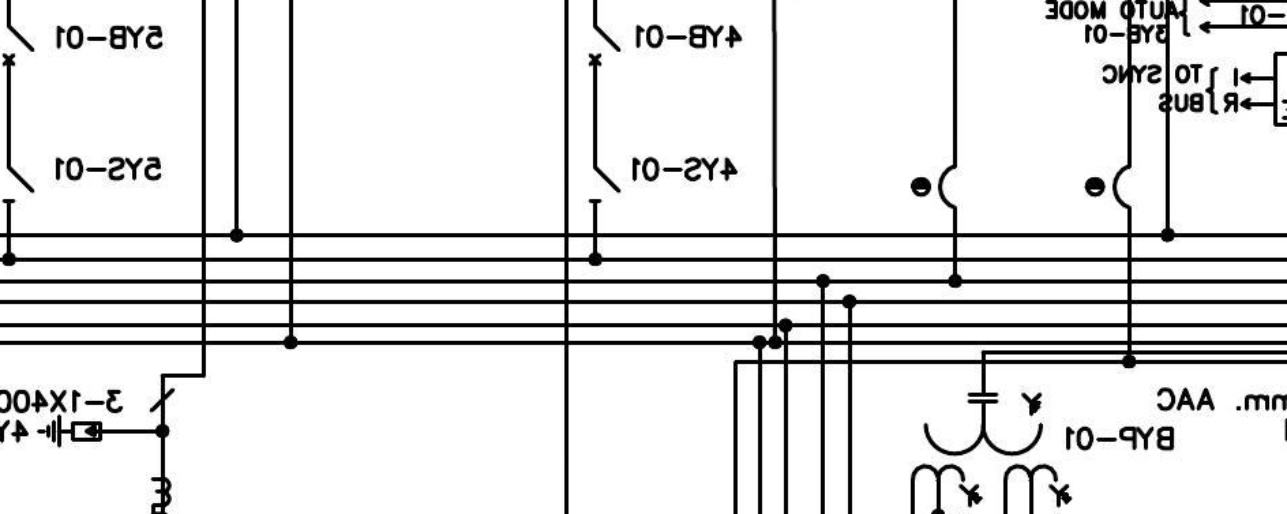115_breaker: (588, 25, 621, 67), (2, 25, 35, 67)
115_cvt_3p: (910, 392, 1074, 509)
115_ds: (587, 165, 622, 203), (1, 165, 35, 203)
115_la: (36, 414, 102, 449)
